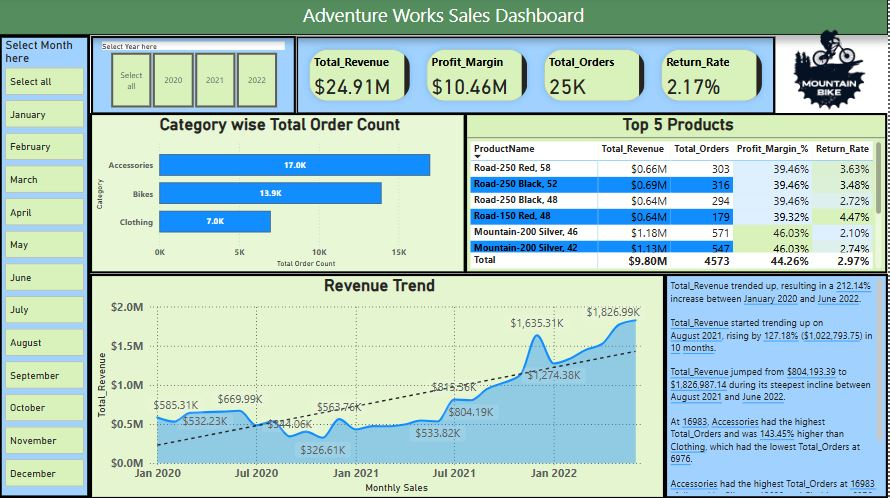

The dashboard page shown, as its layout file describes it:
{"tool":"powerbi","page":{"name":"Dash","canvas":[1280,720],"ordinal":5},"visuals":[{"type":"cardVisual","fields":{"Data":["Measure_Table.Total_Revenue","Measure_Table.Profit_Margin","Measure_Table.Total_Orders","Measure_Table.Return_Rate"]},"box":[427.9,54.7,690.4,113.2],"z":0},{"type":"slicer","fields":{"Values":["Calendar Lookup.Date.Variation.Date Hierarchy.Year"]},"box":[132.3,55.4,295,112.6],"z":1000},{"type":"textbox","box":[0,0,1280,53.5],"z":2000},{"type":"lineChart","title":"Revenue Trend","fields":{"Y":["Measure_Table.Total_Revenue"],"Category":["Calendar Lookup.Date.Variation.Date Hierarchy.Year","Calendar Lookup.Date.Variation.Date Hierarchy.Month"]},"box":[130.5,396.9,827.7,323.6],"z":3000},{"type":"clusteredBarChart","title":"Category wise Total Order Count","fields":{"Category":["Product Categories Lookup.CategoryName"],"Y":["Measure_Table.Total_Orders"]},"box":[131.3,165.9,541,230.8],"z":4000},{"type":"pivotTable","title":"Top 5 Products","fields":{"Rows":["Product Lookup.ProductName"],"Values":["Measure_Table.Total_Revenue","Measure_Table.Total_Orders","Measure_Table.Profit_Margin_%","Measure_Table.Return_Rate"]},"box":[671.7,165.4,608.3,231.4],"z":5000},{"type":"advancedSlicerVisual","title":"Select Month here","fields":{"Values":["Calendar Lookup.Date.Variation.Date Hierarchy.Month"]},"box":[0,53.4,131.3,666.6],"z":6000},{"type":"textbox","box":[959,397,321,323],"z":8000},{"type":"image","box":[1112,0,168,205.6],"z":8001}]}

Visuals, with their boxes in screenshot pixels (x1, y1, x2, y2), scaled from the page's 1280x720 canvas onto the 892x498 screenshot:
cardVisual - Measure_Table.Total_Revenue x Measure_Table.Profit_Margin: x1=298 y1=38 x2=779 y2=116
slicer - Calendar Lookup.Date.Variation.Date Hierarchy.Year: x1=92 y1=38 x2=298 y2=116
textbox: x1=0 y1=0 x2=891 y2=37
"Revenue Trend" lineChart: x1=91 y1=275 x2=668 y2=497
"Category wise Total Order Count" clusteredBarChart: x1=91 y1=115 x2=469 y2=274
"Top 5 Products" pivotTable: x1=468 y1=114 x2=891 y2=274
"Select Month here" advancedSlicerVisual: x1=0 y1=37 x2=91 y2=497
textbox: x1=668 y1=275 x2=891 y2=497
image: x1=775 y1=0 x2=891 y2=142
